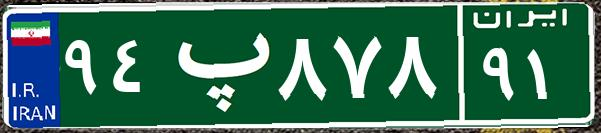1: (525, 38, 570, 115)
4: (110, 28, 158, 105)
7: (330, 28, 385, 110)
8: (385, 28, 445, 110), (273, 28, 330, 110)
9: (57, 26, 110, 107), (475, 38, 525, 113)
پ: (158, 15, 273, 115)
